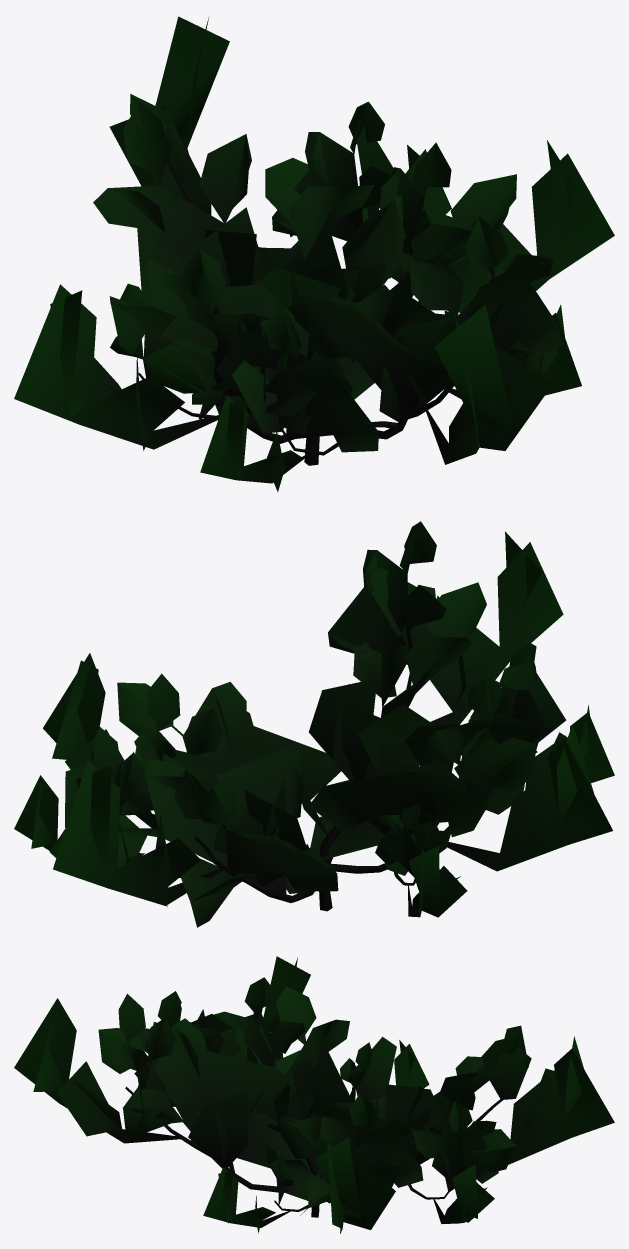
The model's file is Pine_beach_short_01.fbx.
3 views of the same model, one above another, from view 1: azimuth 30°, elevation 25°; view 2: azimuth 150°, elevation 25°; view 3: azimuth 270°, elevation 25° (orthographic). The views are drawn at different scales.
Parts seen in each view (by area): view 1: pine_beach_short_01_LOD0; view 2: pine_beach_short_01_LOD0; view 3: pine_beach_short_01_LOD0.
Part boxes in pixels (bbox=[...]): pine_beach_short_01_LOD0: bbox=[14, 16, 614, 491]; pine_beach_short_01_LOD0: bbox=[14, 521, 614, 927]; pine_beach_short_01_LOD0: bbox=[14, 956, 614, 1233].
Size of what is drawn, in the model's own units: 151 by 78.17 by 183.
